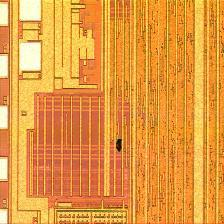PARTICLE: (110, 136, 130, 156)
